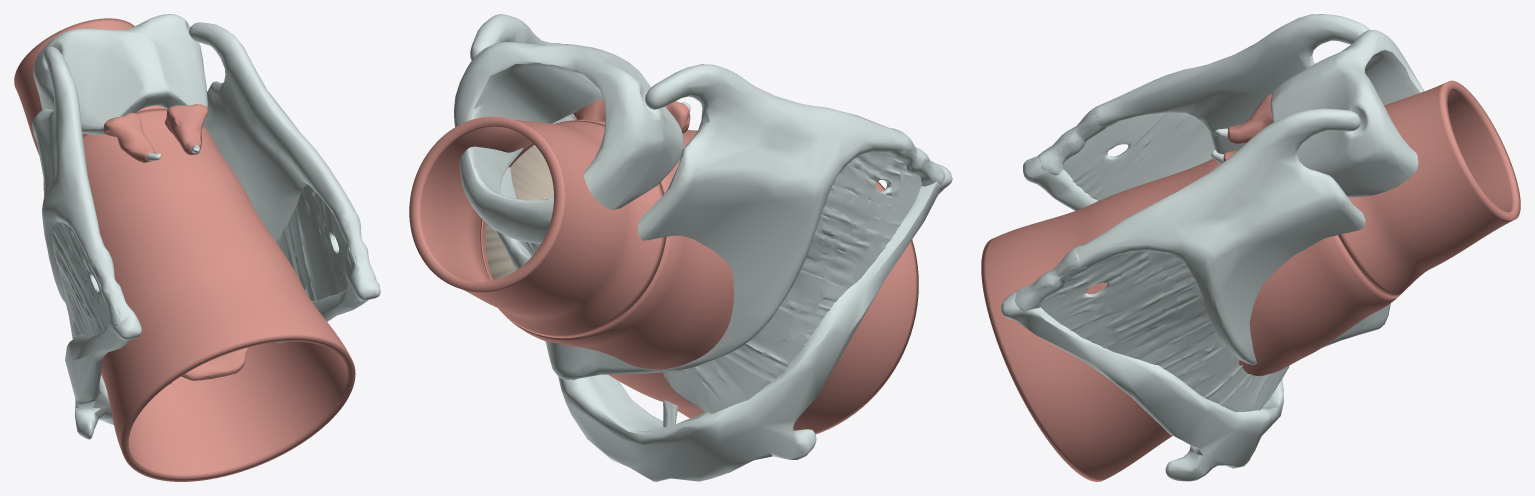
Rendered from larynx-lumen.glb.
3 renders of one model, left to right at view 1: azimuth 30°, elevation 25°; view 2: azimuth 150°, elevation 25°; view 3: azimuth 270°, elevation 25°, orthographic. The views are drawn at different scales.
Parts seen in each view (by area): view 1: UA_lumen, UA_skeleton, UA_subglottis, UA_arytenoid_L, UA_arytenoid_R, UA_epiglottis; view 2: UA_skeleton, UA_subglottis, UA_lumen, UA_fold_true_L; view 3: UA_skeleton, UA_lumen, UA_subglottis, UA_arytenoid_R.
Boxes of the visible parts, left/top/right/bottom form: UA_lumen: left=43, top=109, right=355, bottom=481; UA_skeleton: left=32, top=14, right=380, bottom=439; UA_subglottis: left=14, top=18, right=167, bottom=182; UA_arytenoid_L: left=165, top=104, right=208, bottom=155; UA_arytenoid_R: left=103, top=113, right=155, bottom=162; UA_epiglottis: left=181, top=347, right=248, bottom=380; UA_skeleton: left=454, top=14, right=952, bottom=481; UA_subglottis: left=409, top=116, right=666, bottom=338; UA_lumen: left=481, top=119, right=918, bottom=434; UA_fold_true_L: left=485, top=145, right=553, bottom=280; UA_skeleton: left=1001, top=14, right=1424, bottom=481; UA_lumen: left=981, top=148, right=1398, bottom=481; UA_subglottis: left=1338, top=80, right=1520, bottom=297; UA_arytenoid_R: left=1227, top=94, right=1272, bottom=144.
Size of the model in its own units: 30.94 by 41.41 by 48.26.
